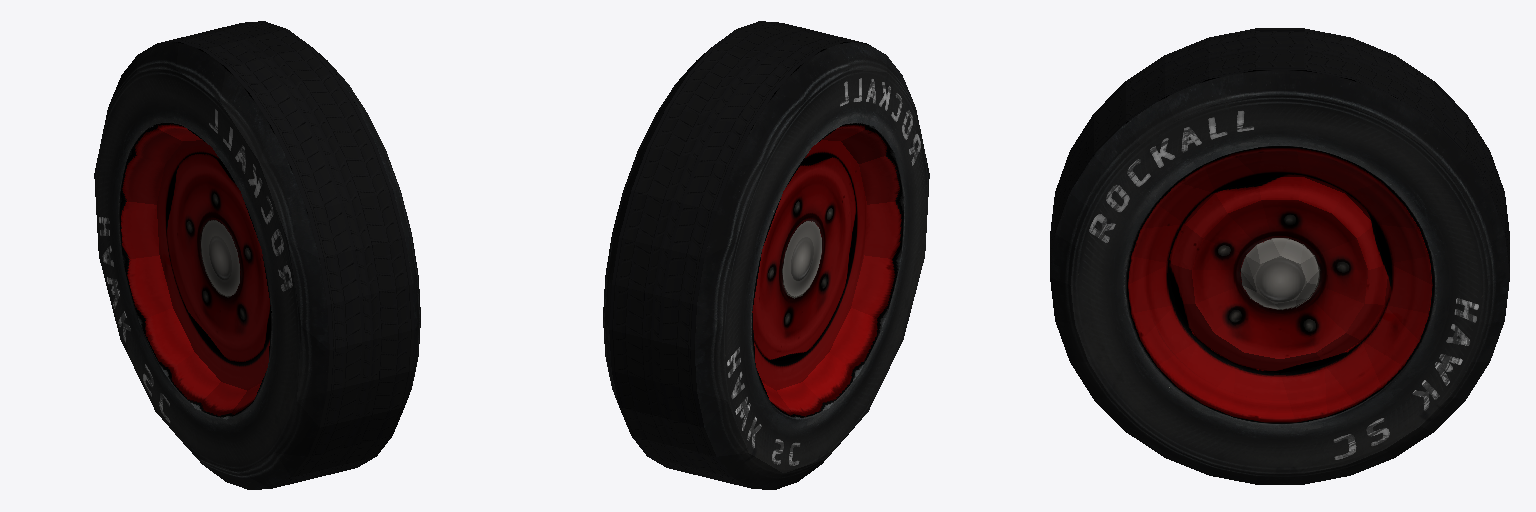
3 renders of one model, left to right at view 1: azimuth 30°, elevation 25°; view 2: azimuth 150°, elevation 25°; view 3: azimuth 270°, elevation 25°, orthographic.
Visible parts, largest first — view 1: Wheel_RR; view 2: Wheel_RR; view 3: Wheel_RR.
Boxes of the visible parts, x1,y1,x2,y2 form: Wheel_RR: [94, 21, 420, 489]; Wheel_RR: [603, 21, 929, 489]; Wheel_RR: [1050, 28, 1509, 484].
Bounding box in the file's own units: 4.72 × 15.51 × 15.59.
1 materials, 1 textured.